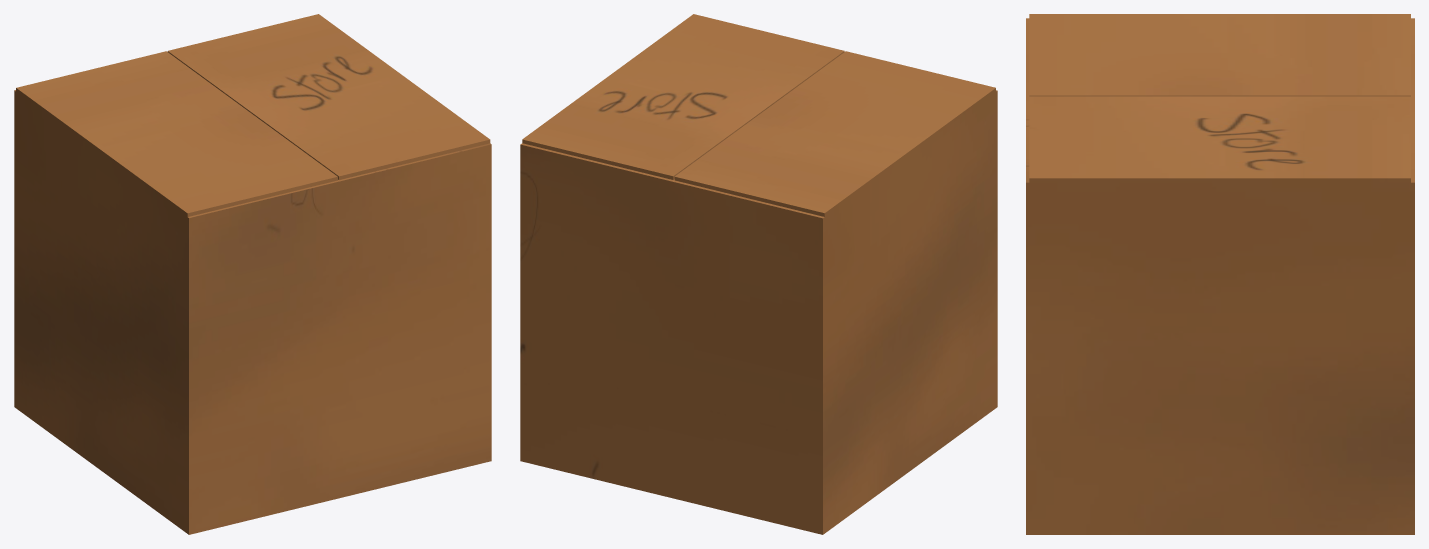
Rendered from cardboard_box2.fbx.
3 views of the same model, side by side, from view 1: azimuth 30°, elevation 25°; view 2: azimuth 150°, elevation 25°; view 3: azimuth 270°, elevation 25° (orthographic). The views are drawn at different scales.
Parts seen in each view (by area): view 1: pCube27; view 2: pCube27; view 3: pCube27.
Part boxes in pixels (x1=…): pCube27: x1=14, y1=14, x2=491, y2=534; pCube27: x1=520, y1=14, x2=997, y2=534; pCube27: x1=1026, y1=14, x2=1414, y2=534.
Size of the model in its own units: 6 by 6.07 by 6.
Materials: 1 (1 with a texture image).
